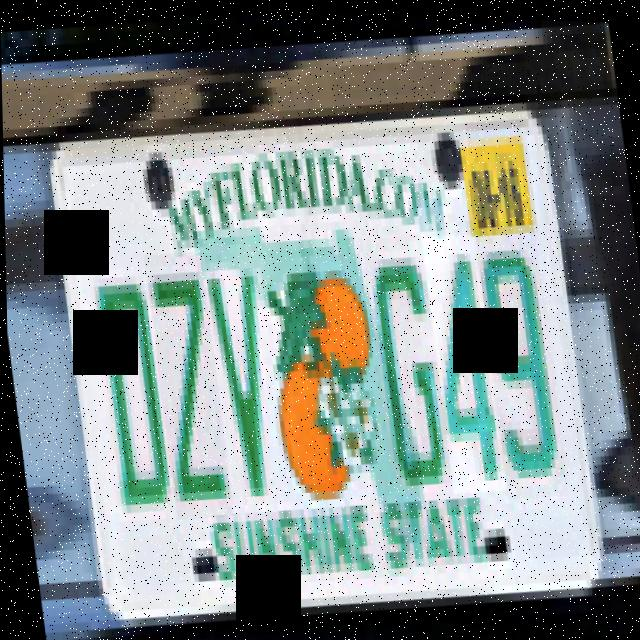4: (420, 228, 505, 491)
9: (471, 216, 566, 497)
D: (80, 250, 177, 525)
G: (359, 230, 449, 489)
V: (196, 240, 281, 514)
Z: (142, 248, 232, 520)
